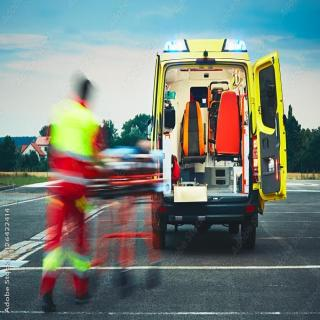Ambulance: (152, 27, 295, 264)
